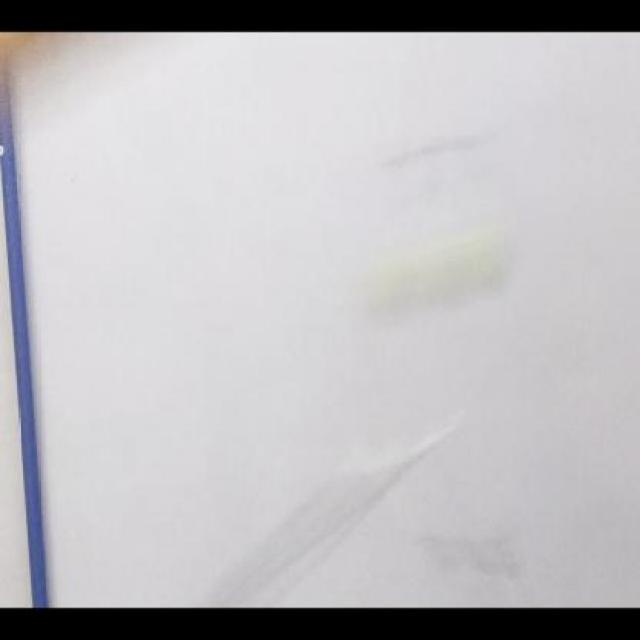baseball: (362, 230, 513, 322)
